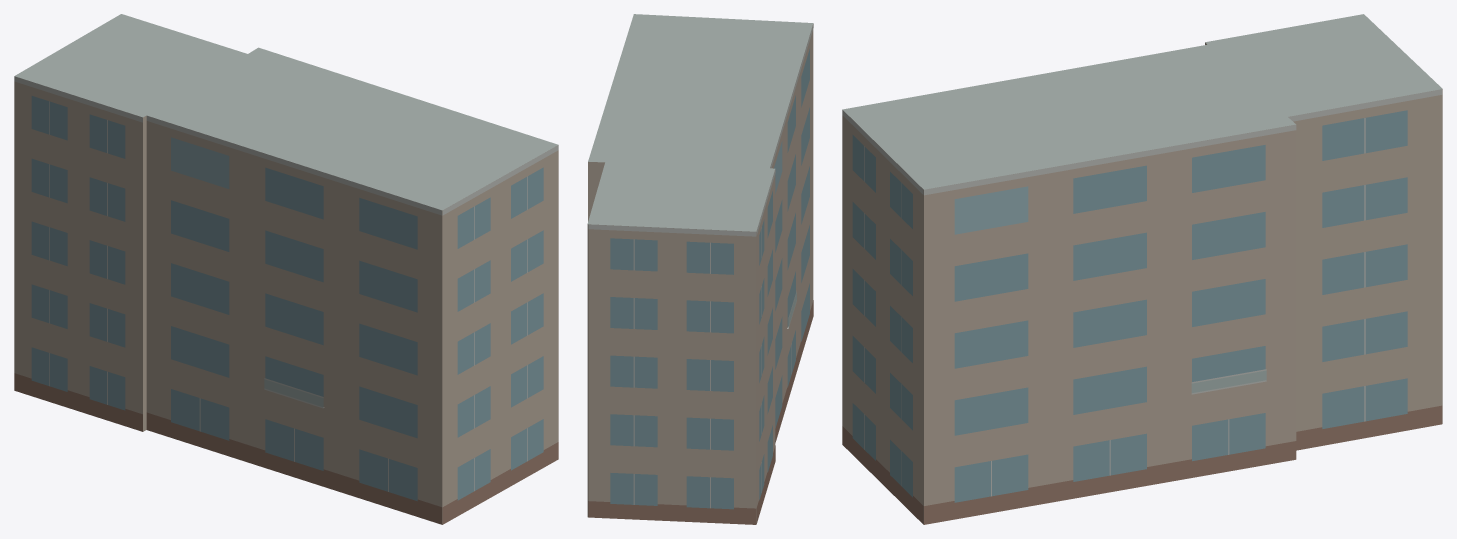
Rendered from survey-upis-32733532.glb.
3 renders of one model, left to right at view 1: azimuth 30°, elevation 25°; view 2: azimuth 150°, elevation 25°; view 3: azimuth 270°, elevation 25°, orthographic. The views are drawn at different scales.
Parts seen in each view (by area): view 1: survey-upis-32733532.tmp; view 2: survey-upis-32733532.tmp; view 3: survey-upis-32733532.tmp.
Part boxes in pixels (box(x1,y1,x2,y2)): survey-upis-32733532.tmp: box(14, 14, 558, 524); survey-upis-32733532.tmp: box(587, 14, 813, 524); survey-upis-32733532.tmp: box(842, 14, 1442, 524).
Bounding box in the file's own units: 16.37 × 14.55 × 23.63.
